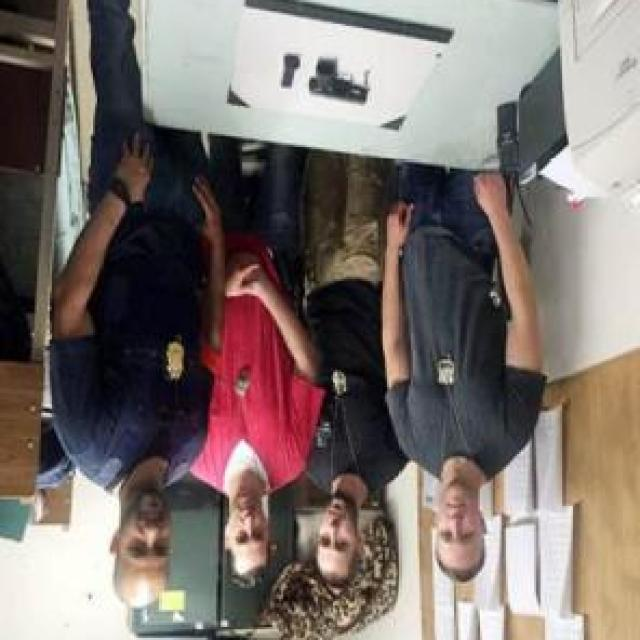pistol: (306, 50, 374, 112)
